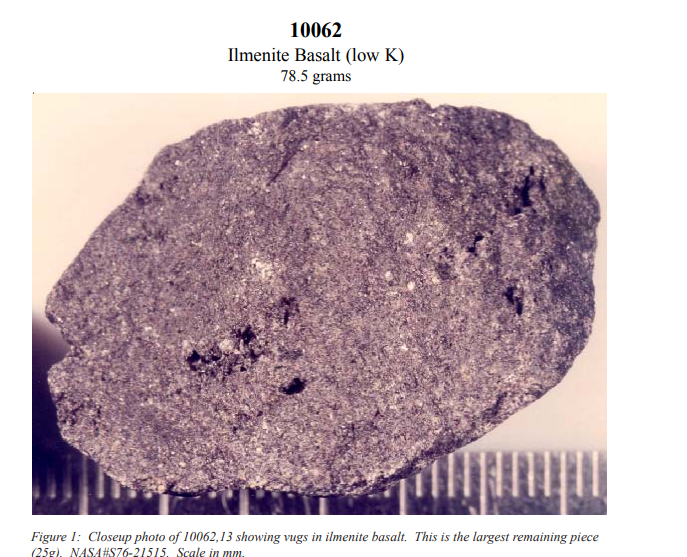Basalt: (31, 93, 605, 512)
